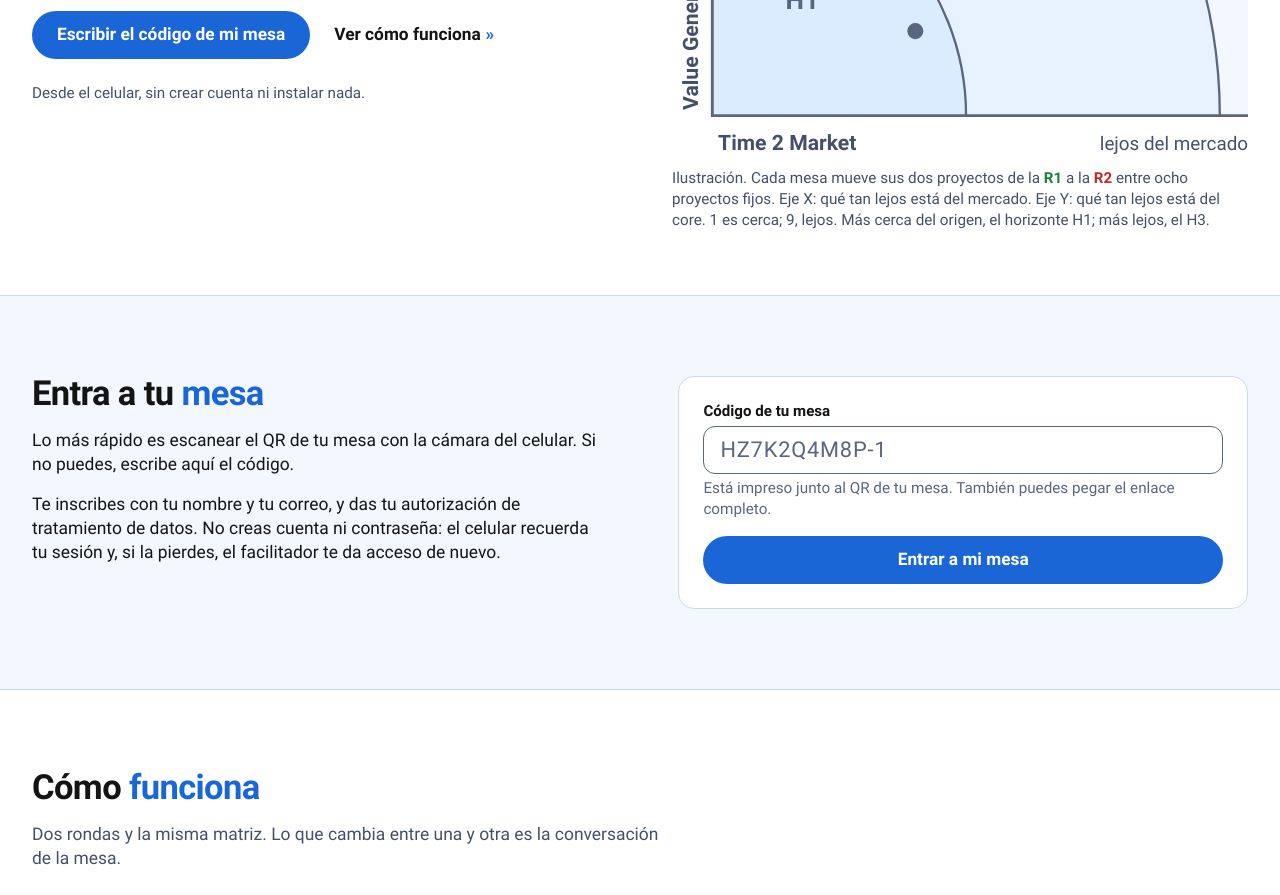
Test: landing de la raíz › el código que no existe muestra el error en la misma página
The width and height of the screenshot is (1280, 895).
(page scrolled)
Type "HZ000-9" into the field labelled "Código de tu mesa" at (963, 450), box [703,426,1223,474]
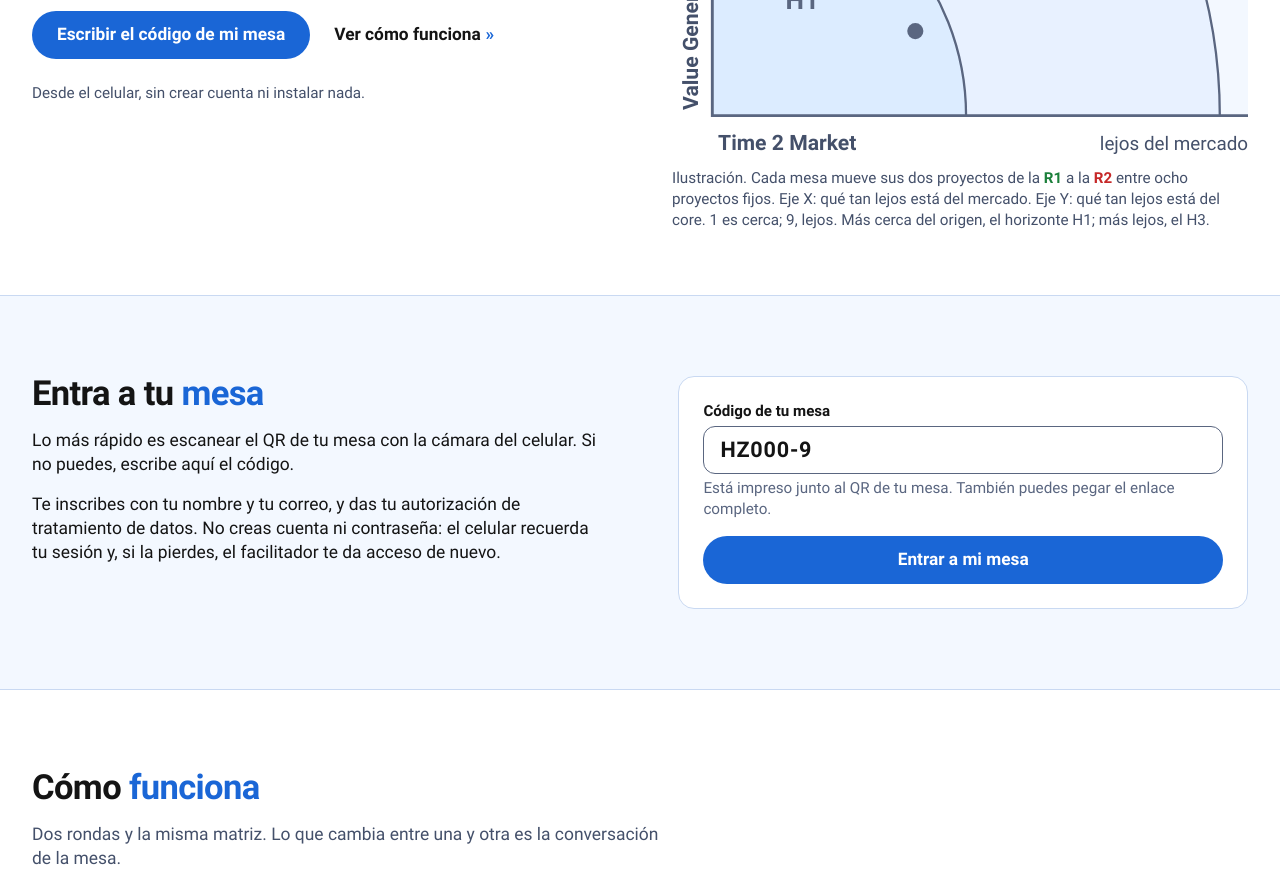
Click the button "Entrar a mi mesa" at (963, 560), box [703,536,1223,584]
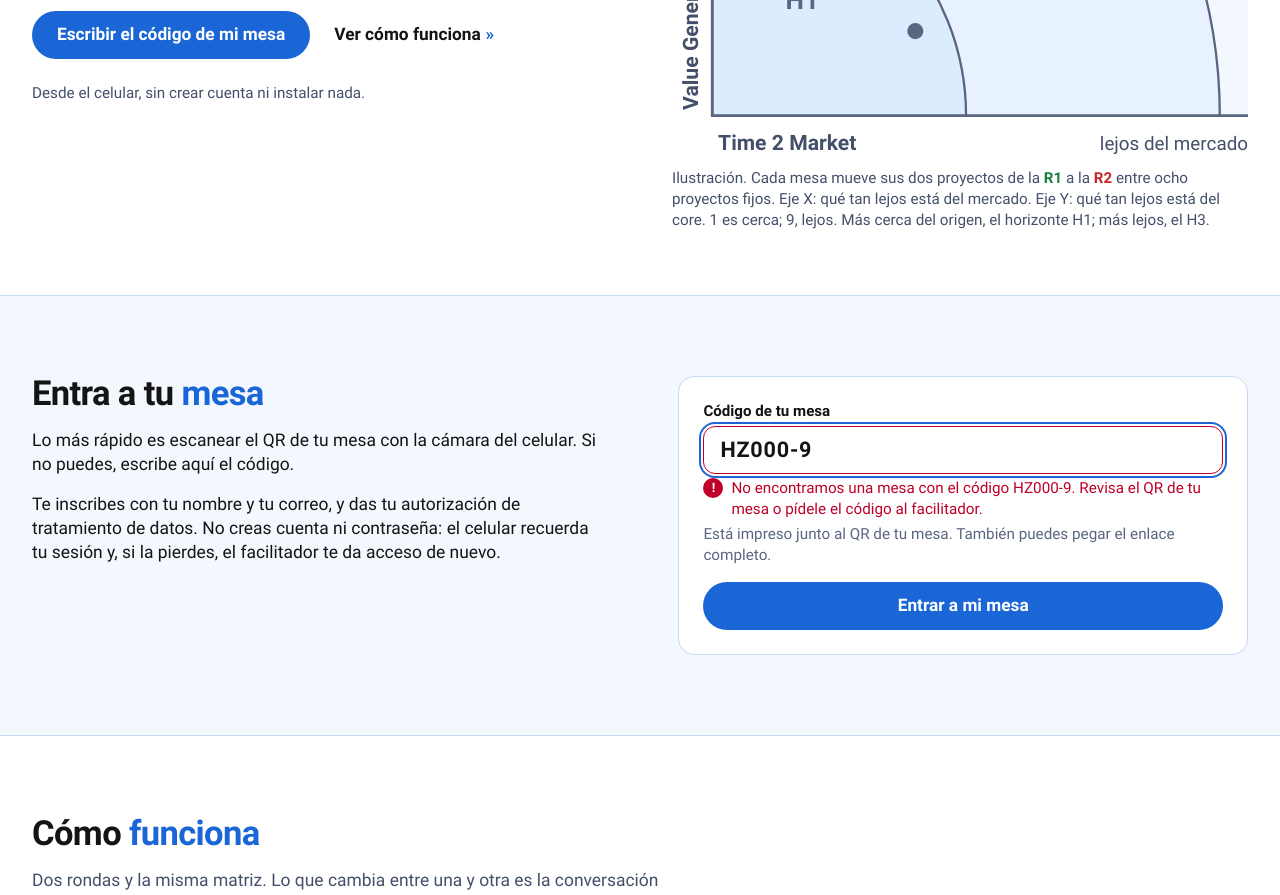
Expected: the text "No encontramos una mesa con el código HZ000-9" is shown, [731,479,1201,518]
